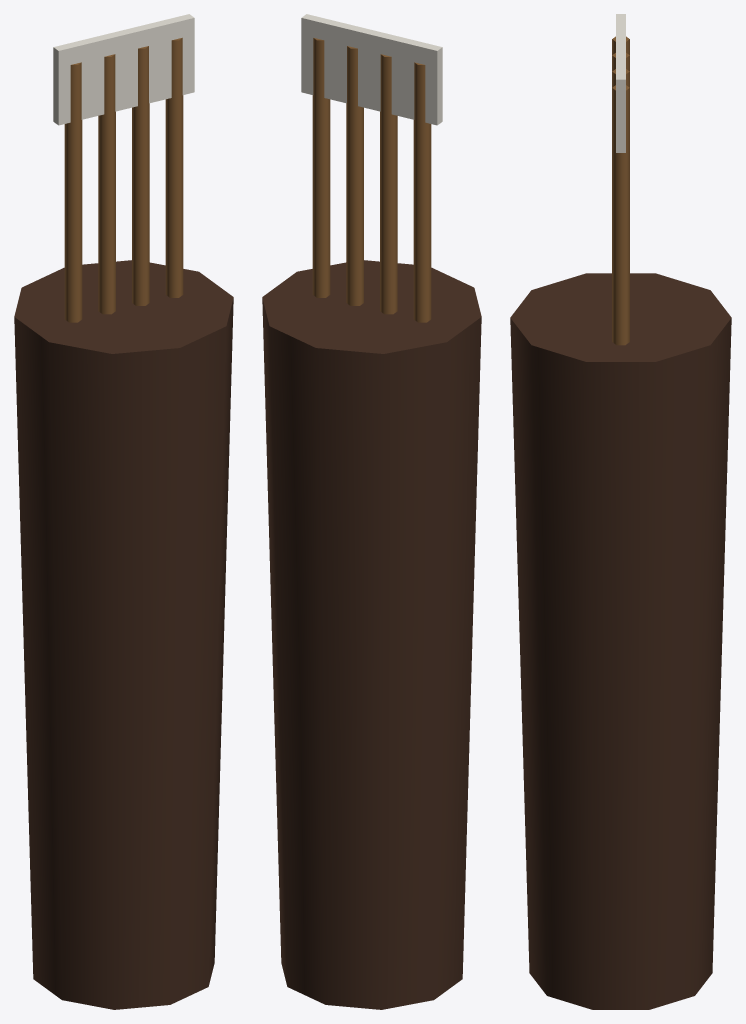
The model's file is mongol-quiver.glb.
3 views of the same model, side by side, from view 1: azimuth 30°, elevation 25°; view 2: azimuth 150°, elevation 25°; view 3: azimuth 270°, elevation 25° (orthographic).
Visible parts, largest first — view 1: Case, ArrowShaft (×4), Feather (×4); view 2: Case, ArrowShaft (×4), Feather (×4); view 3: Case, ArrowShaft, Feather.
Boxes of the visible parts, box(x1,y1,x2,y2) form: Case: box(14, 260, 233, 1009); ArrowShaft (×4): box(64, 37, 183, 322); Feather (×4): box(53, 14, 194, 125); Case: box(262, 260, 481, 1009); ArrowShaft (×4): box(312, 37, 431, 322); Feather (×4): box(301, 14, 442, 125); Case: box(510, 273, 731, 1009); ArrowShaft: box(612, 85, 629, 345); Feather: box(616, 62, 625, 152).
Bounding box in the file's own units: 0.1427 × 0.6925 × 0.15.
